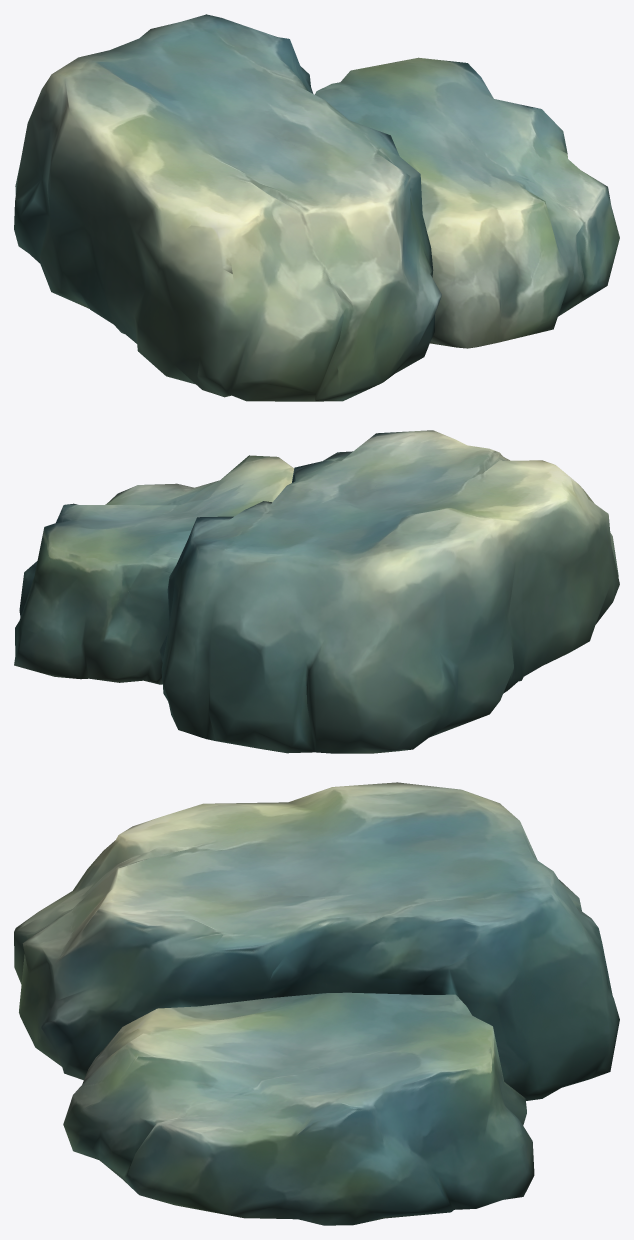
File: model_raw.glb
3 views of the same model, one above another, from view 1: azimuth 30°, elevation 25°; view 2: azimuth 150°, elevation 25°; view 3: azimuth 270°, elevation 25° (orthographic). The views are drawn at different scales.
Parts seen in each view (by area): view 1: tripo_node_e145a00a-6d4c-4010-a823-5985193a7027; view 2: tripo_node_e145a00a-6d4c-4010-a823-5985193a7027; view 3: tripo_node_e145a00a-6d4c-4010-a823-5985193a7027.
Part boxes in pixels (x1,y1,x2,y2): tripo_node_e145a00a-6d4c-4010-a823-5985193a7027: [14, 14, 619, 401]; tripo_node_e145a00a-6d4c-4010-a823-5985193a7027: [14, 430, 619, 753]; tripo_node_e145a00a-6d4c-4010-a823-5985193a7027: [14, 782, 619, 1225].
Bounding box in the file's own units: 0.9999 × 0.3911 × 1.
1 material, 1 textured.
